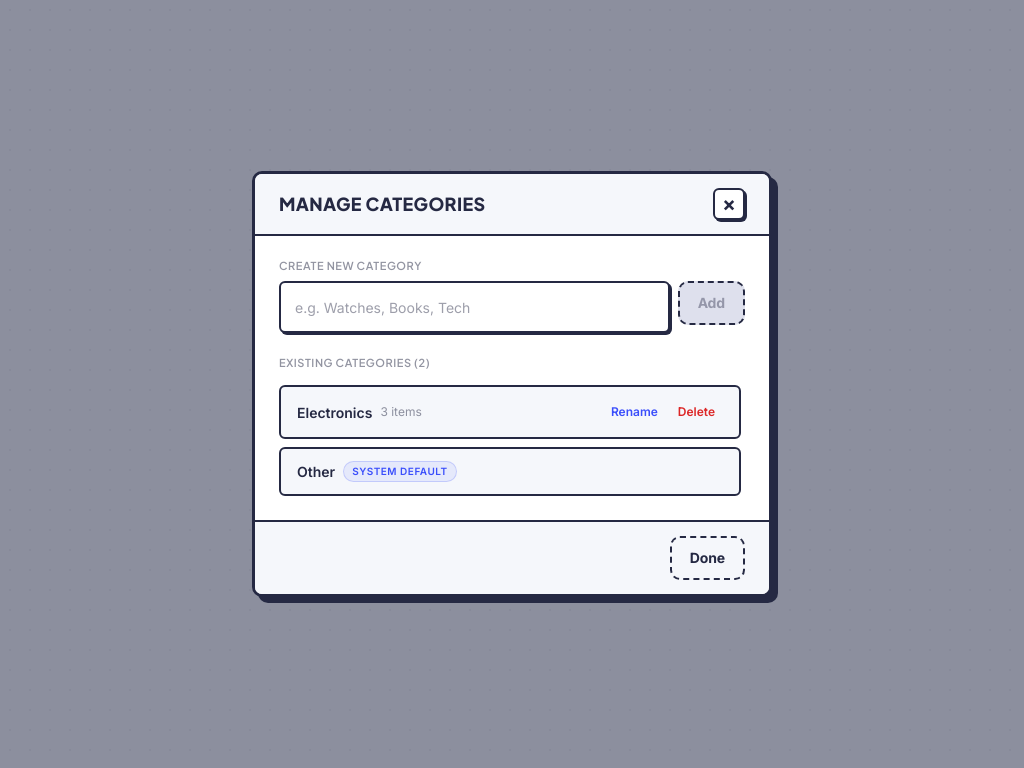
Scenario: CategoryManagementModal Component › renders categories list, protects Other from deletion, and shows items move notice on delete
The width and height of the screenshot is (1024, 768).
Later steps or results of the test are not shown.
Check: the heading "Manage Categories" is shown, box x1=279 y1=194 x2=485 y2=214
Check: the text "System Default" is shown, box x1=343 y1=461 x2=457 y2=482
Note: Click delete on Electronics
Click the button with aria-label "delete category".
click(696, 412)  # box x1=670 y1=399 x2=723 y2=425
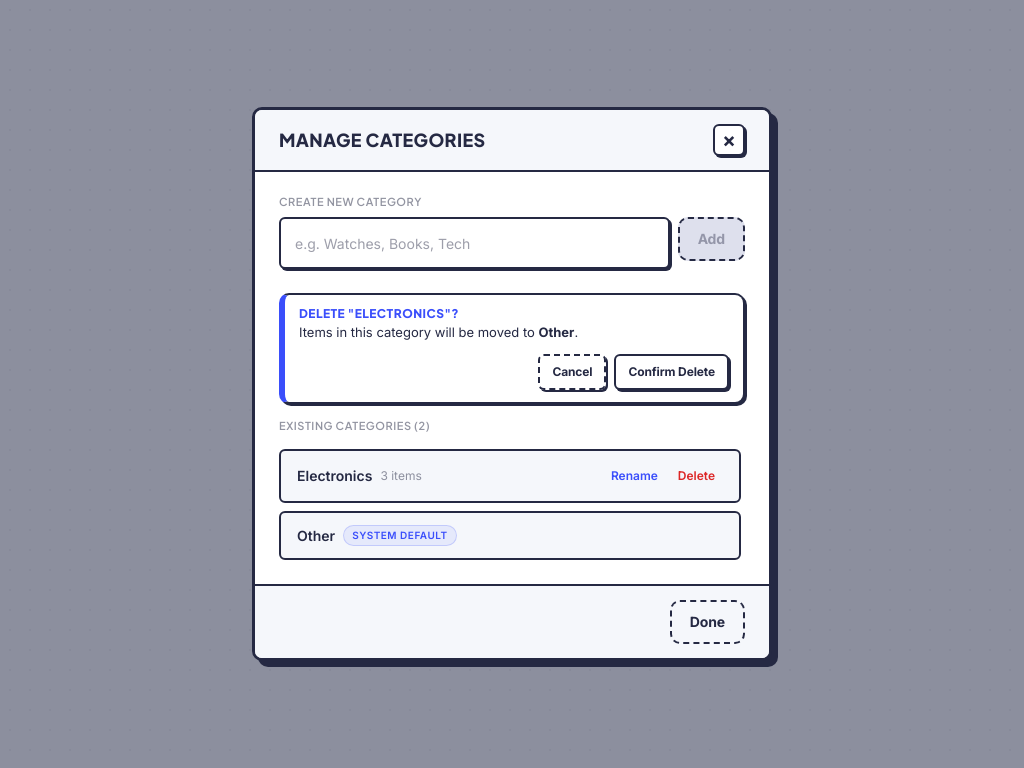
Check: the text "Items in this category will be moved to Other." is shown, box x1=299 y1=324 x2=578 y2=340
